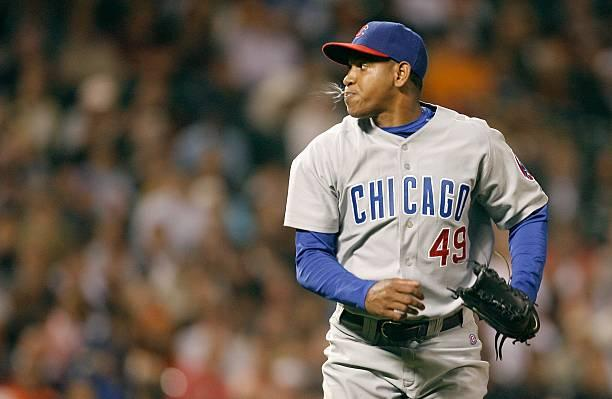Spitting: (278, 7, 465, 135)
